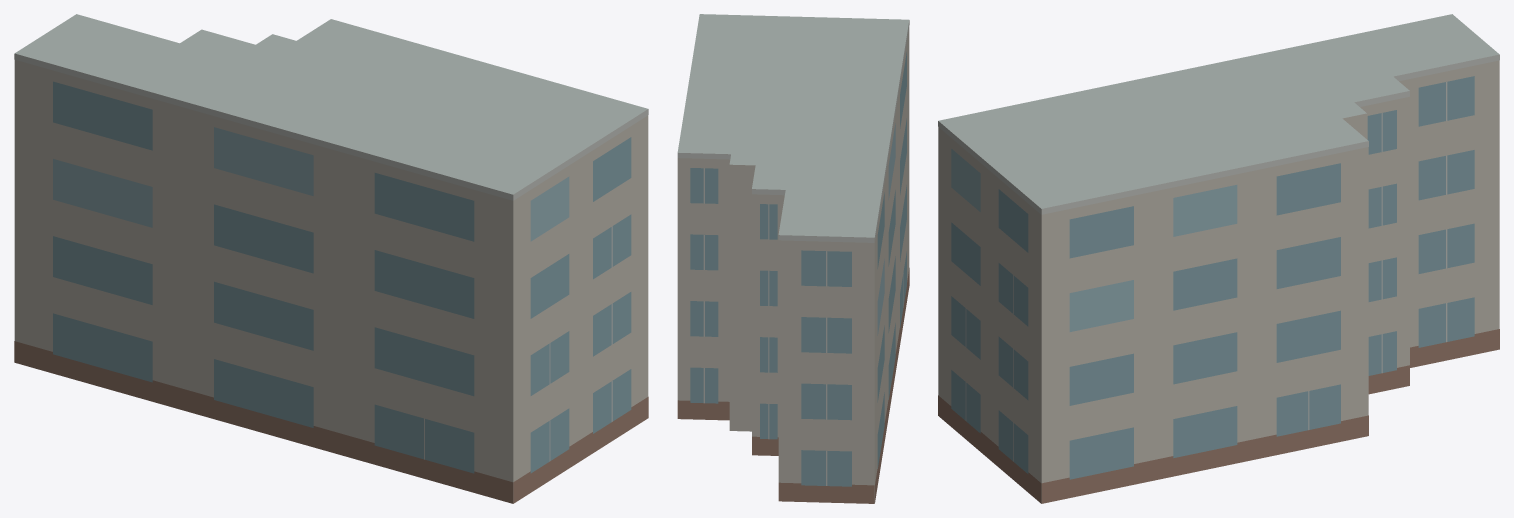
The model's file is survey-upis-32798014.glb.
3 views of the same model, side by side, from view 1: azimuth 30°, elevation 25°; view 2: azimuth 150°, elevation 25°; view 3: azimuth 270°, elevation 25° (orthographic). The views are drawn at different scales.
Parts seen in each view (by area): view 1: survey-upis-32798014.tmp; view 2: survey-upis-32798014.tmp; view 3: survey-upis-32798014.tmp.
Boxes of the visible parts, left/top/right/bottom form: survey-upis-32798014.tmp: left=14, top=14, right=648, bottom=503; survey-upis-32798014.tmp: left=677, top=14, right=909, bottom=503; survey-upis-32798014.tmp: left=938, top=14, right=1499, bottom=503.
Size of the model in its own units: 17.3 by 12.2 by 21.06.
